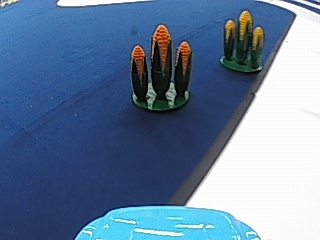corn: (127, 25, 197, 112), (218, 10, 266, 72)
